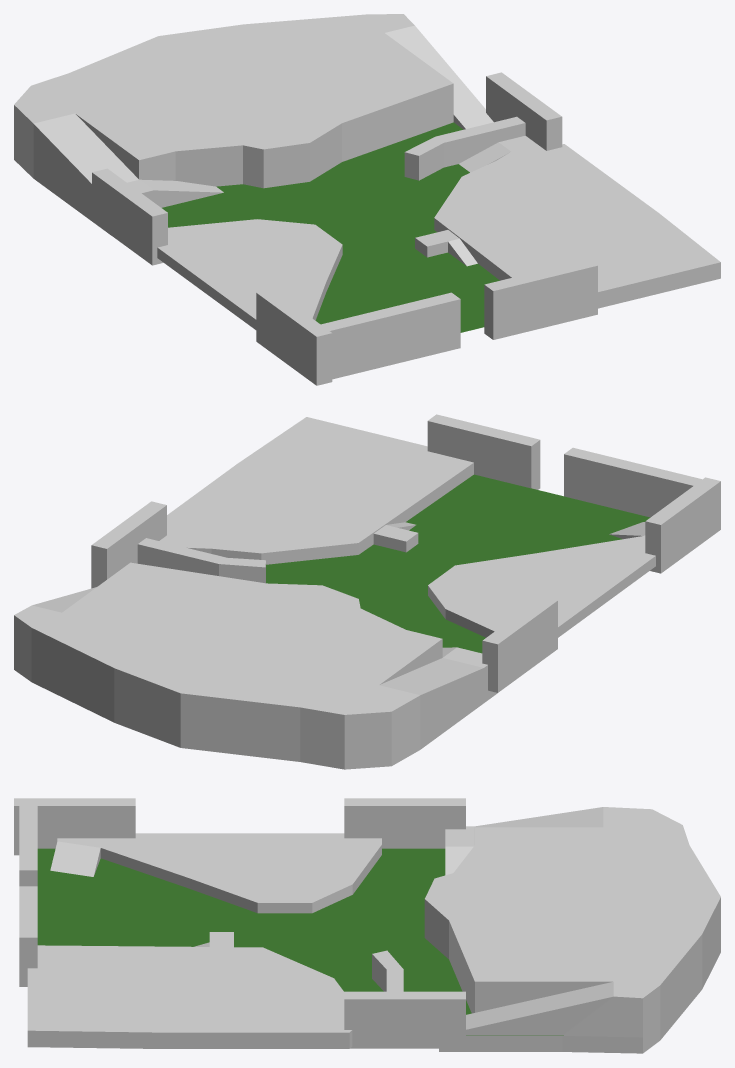
Rendered from HomeLevel_01.glb.
3 views of the same model, one above another, from view 1: azimuth 30°, elevation 25°; view 2: azimuth 150°, elevation 25°; view 3: azimuth 270°, elevation 25° (orthographic).
Visible parts, largest first — view 1: Home_Rock, Ram_World, Field, IbexWorld, wall_03, wall_04, wall_05, wall_02, wall_01, stair_01; view 2: Home_Rock, Ram_World, Field, IbexWorld, wall_03, wall_04, wall_02, wall_05, wall_01, stair_01; view 3: Home_Rock, Ram_World, Field, IbexWorld, wall_01, wall_02, wall_05, wall_04, wall_03, stair_01.
Part boxes in pixels (x1,y1,x2,y2): Home_Rock: [14, 14, 493, 233]; Ram_World: [404, 116, 720, 308]; Field: [162, 122, 499, 332]; IbexWorld: [157, 219, 342, 329]; wall_03: [308, 292, 460, 379]; wall_04: [484, 259, 597, 339]; wall_05: [256, 289, 332, 385]; wall_02: [92, 168, 167, 265]; wall_01: [486, 72, 562, 150]; stair_01: [415, 230, 477, 266]; Home_Rock: [14, 562, 497, 769]; Ram_World: [137, 417, 473, 583]; Field: [266, 474, 650, 653]; IbexWorld: [428, 522, 655, 637]; wall_03: [564, 447, 714, 517]; wall_04: [427, 414, 540, 489]; wall_02: [482, 596, 557, 692]; wall_05: [645, 477, 720, 573]; wall_01: [91, 501, 166, 588]; stair_01: [373, 522, 418, 552]; Home_Rock: [424, 807, 720, 1053]; Ram_World: [27, 945, 403, 1048]; Field: [37, 848, 563, 1035]; IbexWorld: [50, 833, 381, 913]; wall_01: [344, 991, 465, 1048]; wall_02: [344, 798, 465, 848]; wall_05: [14, 798, 135, 855]; wall_04: [19, 886, 37, 986]; wall_03: [19, 800, 37, 886]; stair_01: [194, 932, 233, 947].
Bounding box in the file's own units: 332 × 45 × 488.
